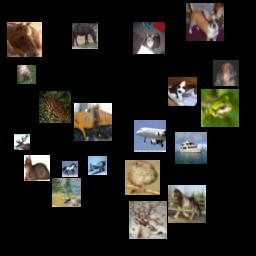airplane: (134, 120, 166, 152), (88, 156, 107, 175)
bird: (125, 160, 160, 195)
cat: (133, 22, 165, 54), (24, 155, 50, 181)
deer: (129, 201, 167, 239), (52, 178, 81, 207), (14, 134, 30, 150)
dog: (186, 3, 224, 41), (168, 77, 197, 106), (213, 60, 239, 86), (17, 65, 36, 84)
frog: (201, 89, 239, 127), (39, 91, 71, 123)
ship: (175, 132, 207, 164)
truck: (74, 103, 112, 141)
